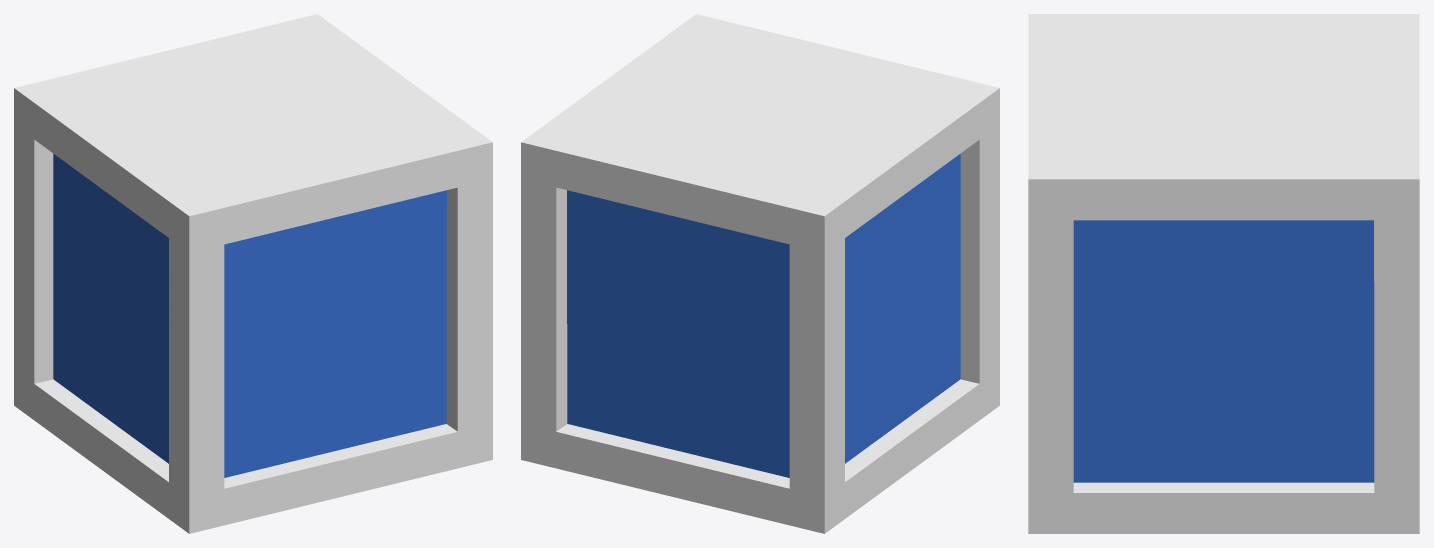
The model's file is Container.fbx.
The picture shows the model from 3 angles, left to right: view 1: azimuth 30°, elevation 25°; view 2: azimuth 150°, elevation 25°; view 3: azimuth 270°, elevation 25°; orthographic projection. The views are drawn at different scales.
Parts seen in each view (by area): view 1: Container, Cube.001; view 2: Container, Cube.001; view 3: Container, Cube.001.
Part boxes in pixels (box(x1,y1,x2,y2)): Container: box(14, 14, 492, 533); Cube.001: box(53, 154, 446, 477); Container: box(521, 14, 999, 533); Cube.001: box(567, 154, 960, 477); Container: box(1028, 14, 1419, 533); Cube.001: box(1073, 220, 1374, 482).
Size of the model in its own units: 200 by 200 by 200.
